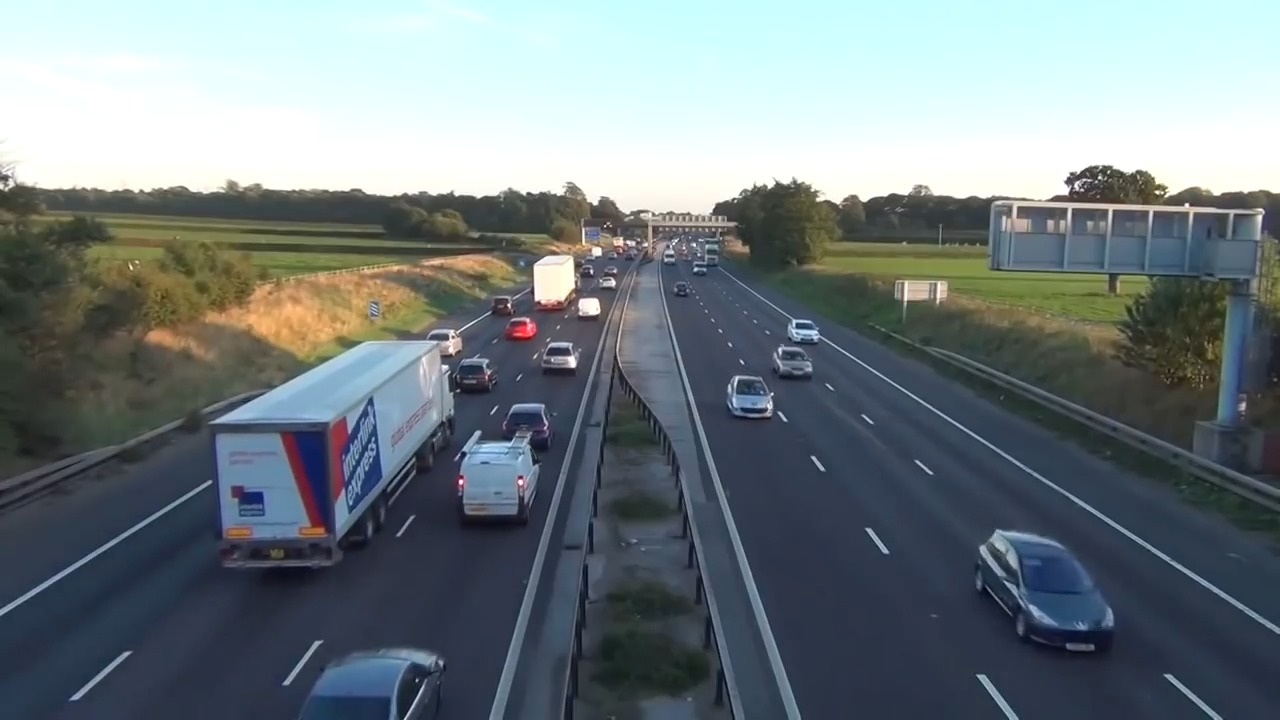truck: (210, 332, 462, 578)
